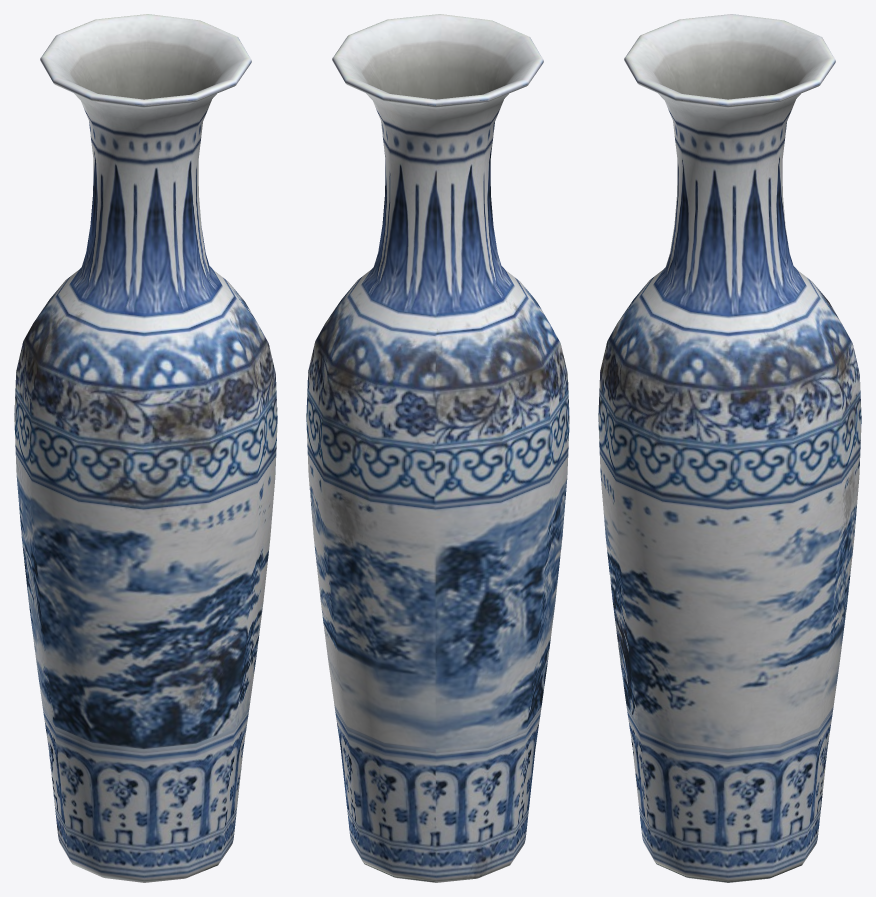
File: huaping.glb
3 views of the same model, side by side, from view 1: azimuth 30°, elevation 25°; view 2: azimuth 150°, elevation 25°; view 3: azimuth 270°, elevation 25° (orthographic).
Parts seen in each view (by area): view 1: pingzi; view 2: pingzi; view 3: pingzi.
Part boxes in pixels (x1,y1,x2,y2): pingzi: (14, 14, 277, 882); pingzi: (306, 14, 569, 882); pingzi: (598, 14, 861, 882).
Size of the model in its own units: 0.1743 by 0.5785 by 0.1743.
Materials: 1 (1 with a texture image).
